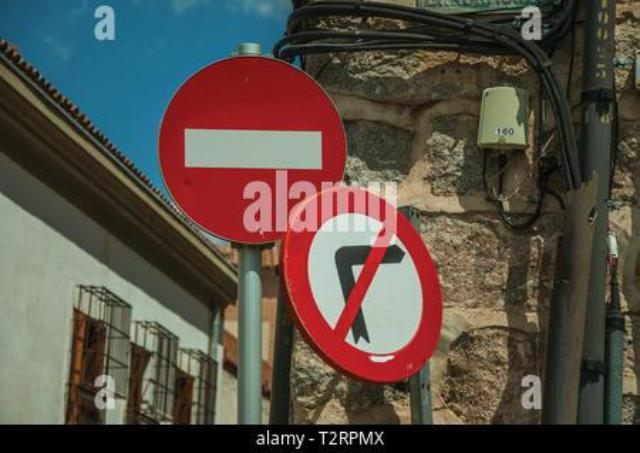B2: (156, 52, 348, 244)
